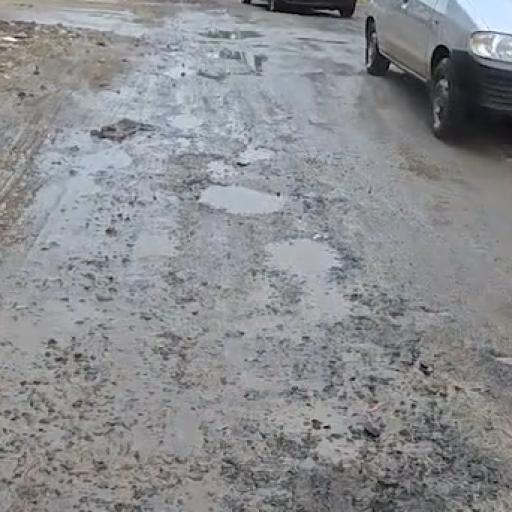pothole: (252, 224, 394, 351), (170, 126, 303, 219), (188, 14, 280, 91)
ravelling: (34, 361, 499, 505)
